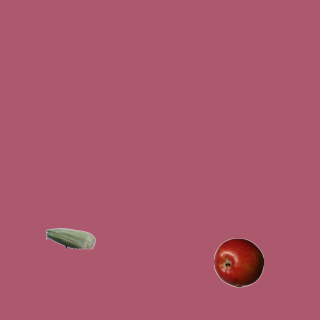Apple Braeburn: (213, 237, 263, 287)
Corn Husk: (45, 213, 95, 263)
